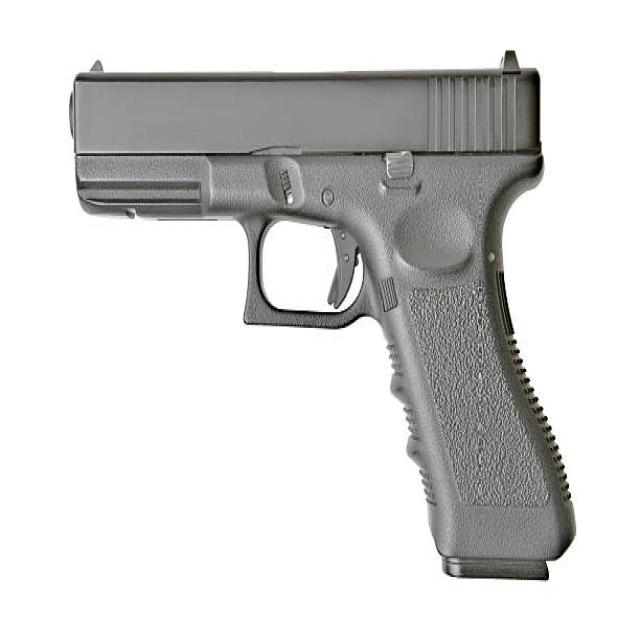pistol: (62, 48, 581, 599)
